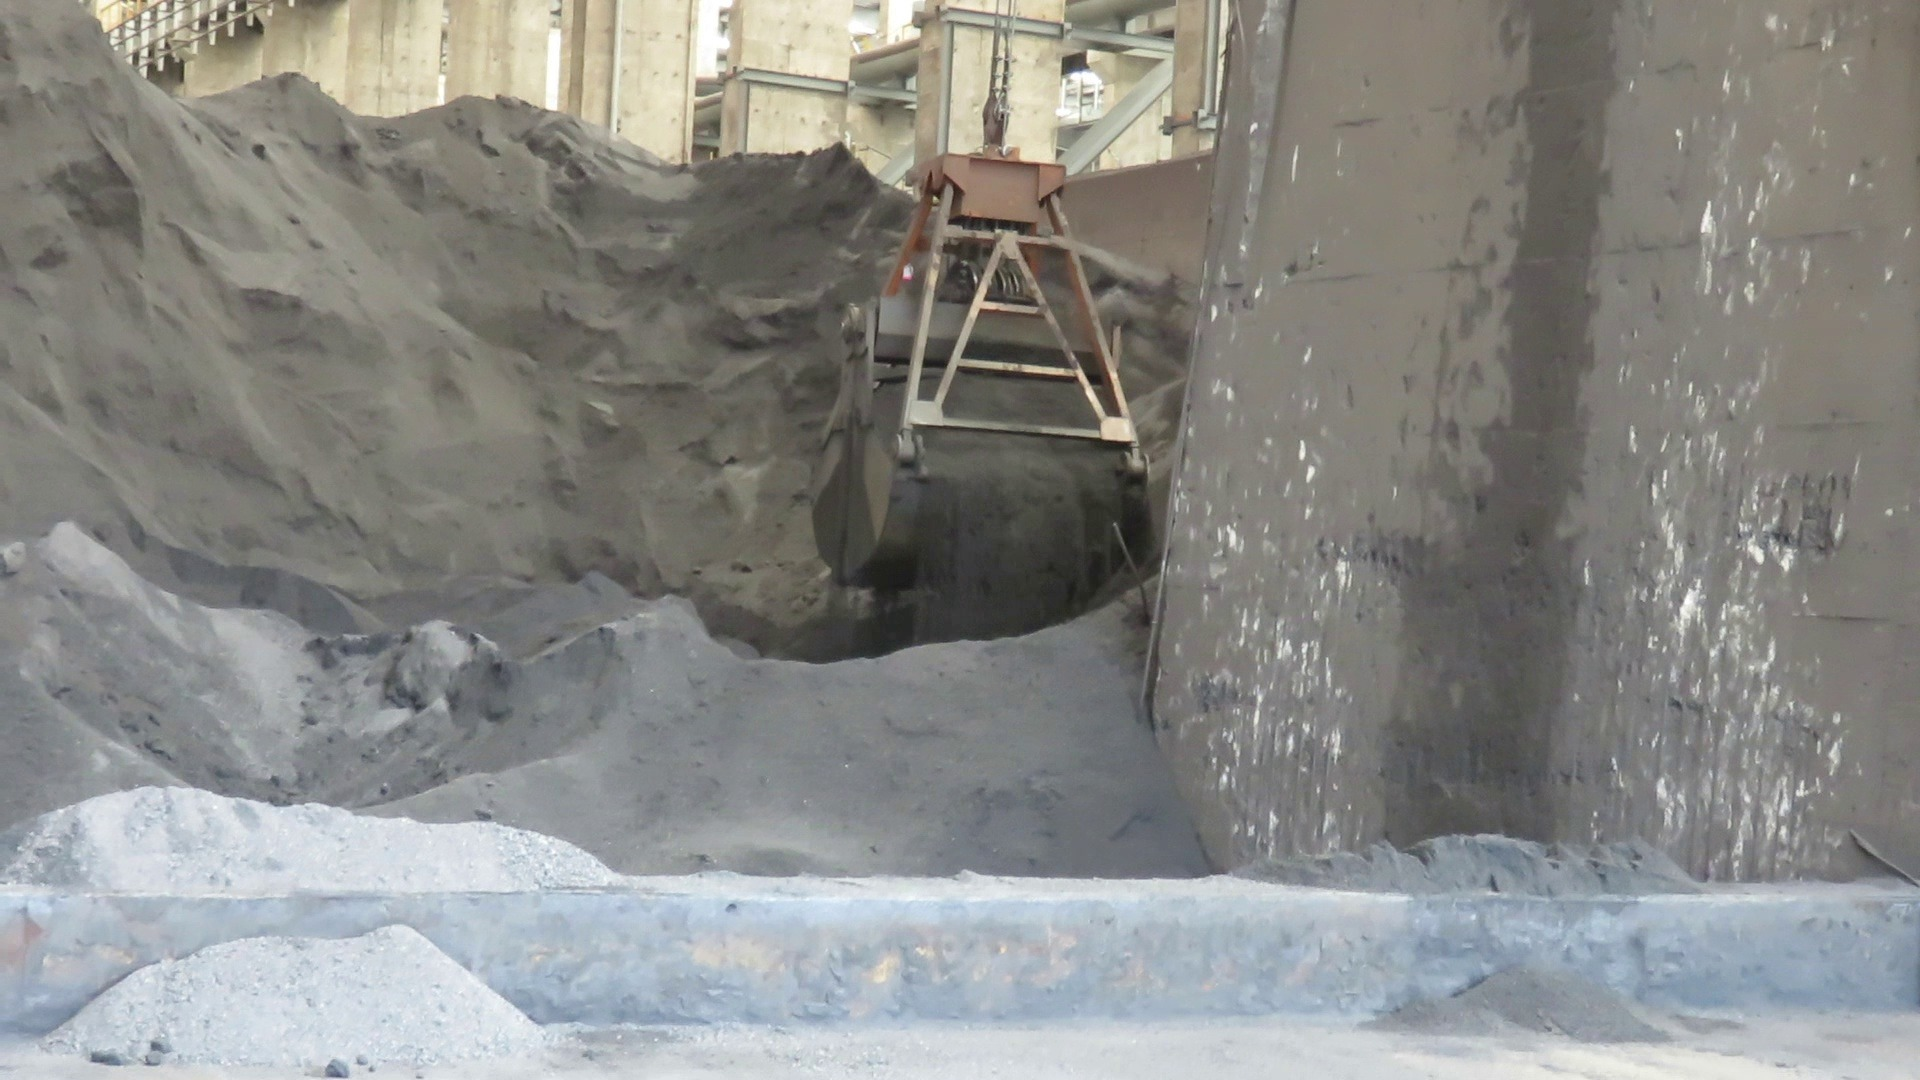grab: (807, 98, 1167, 637)
